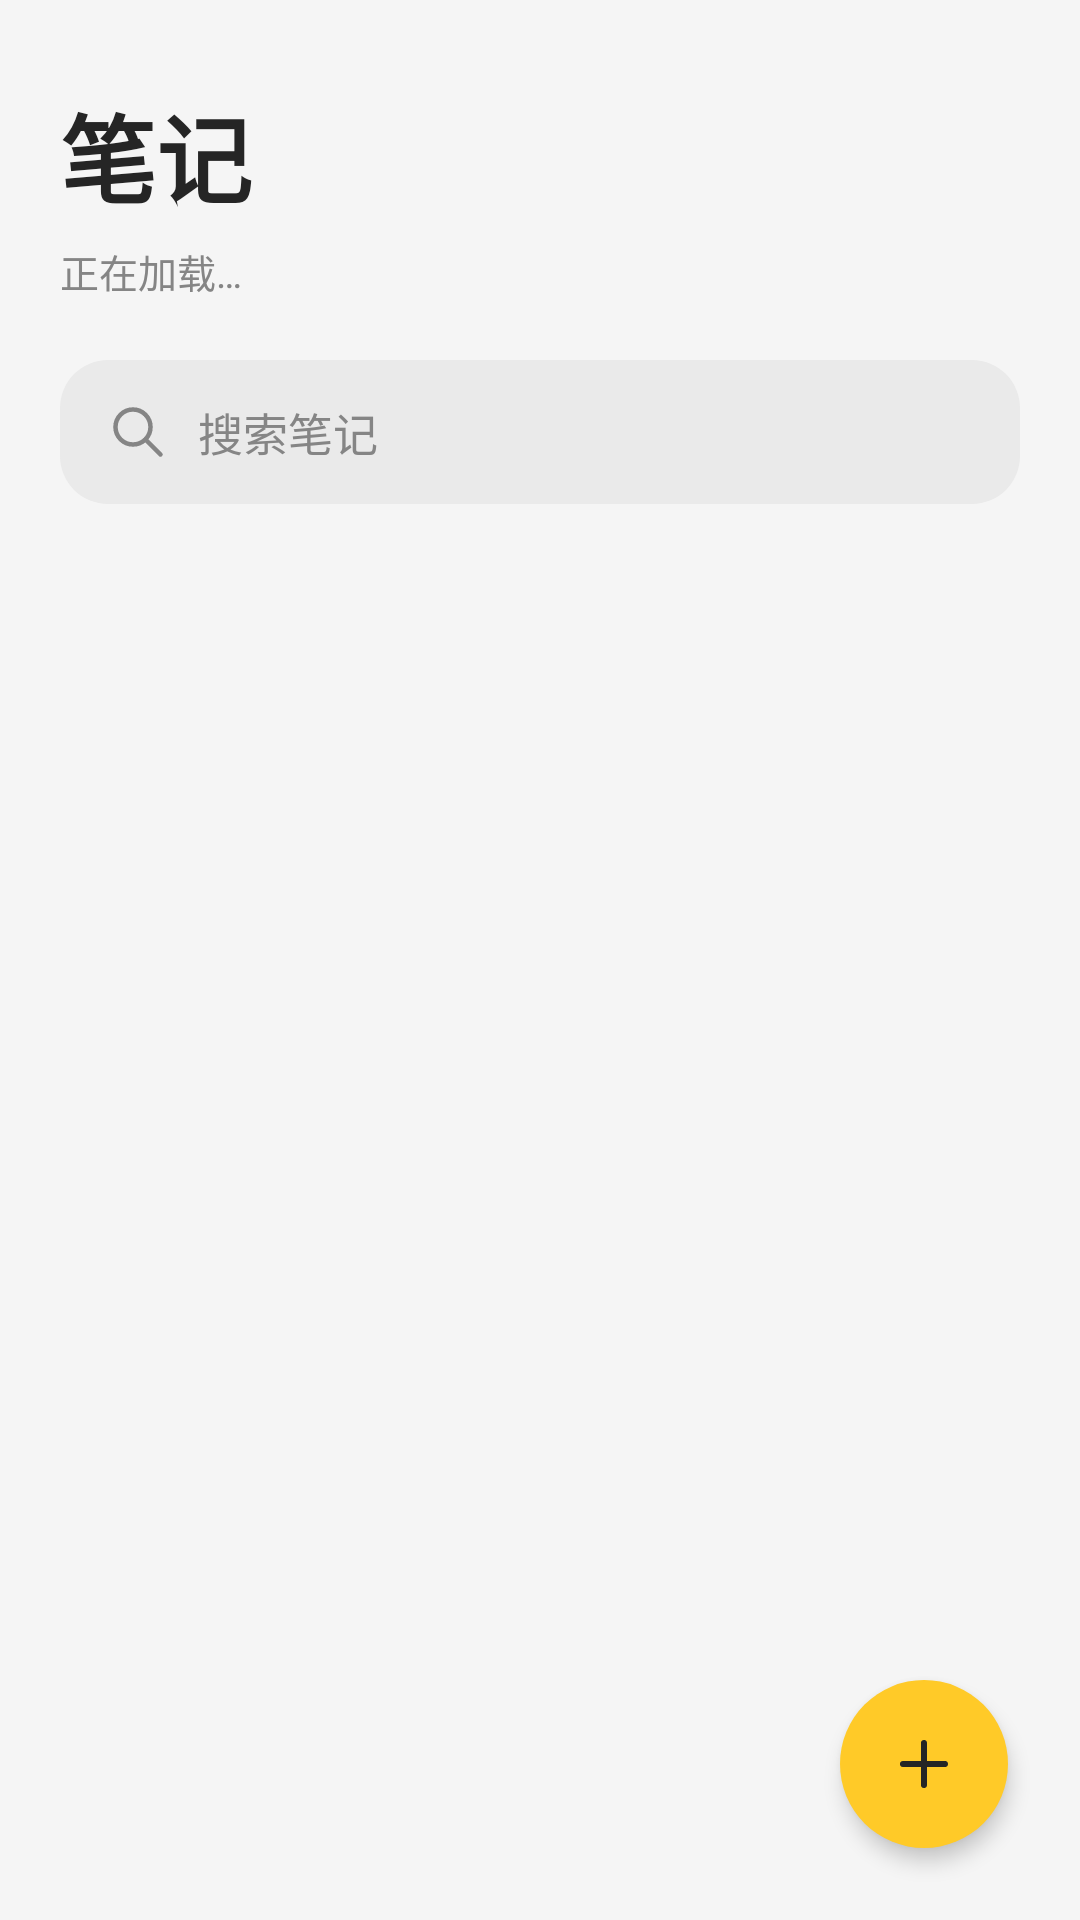

Named icons in this screenshot (1080*1920) and their centers, (x=x, y=y):
新建笔记: (x=924, y=1764)
